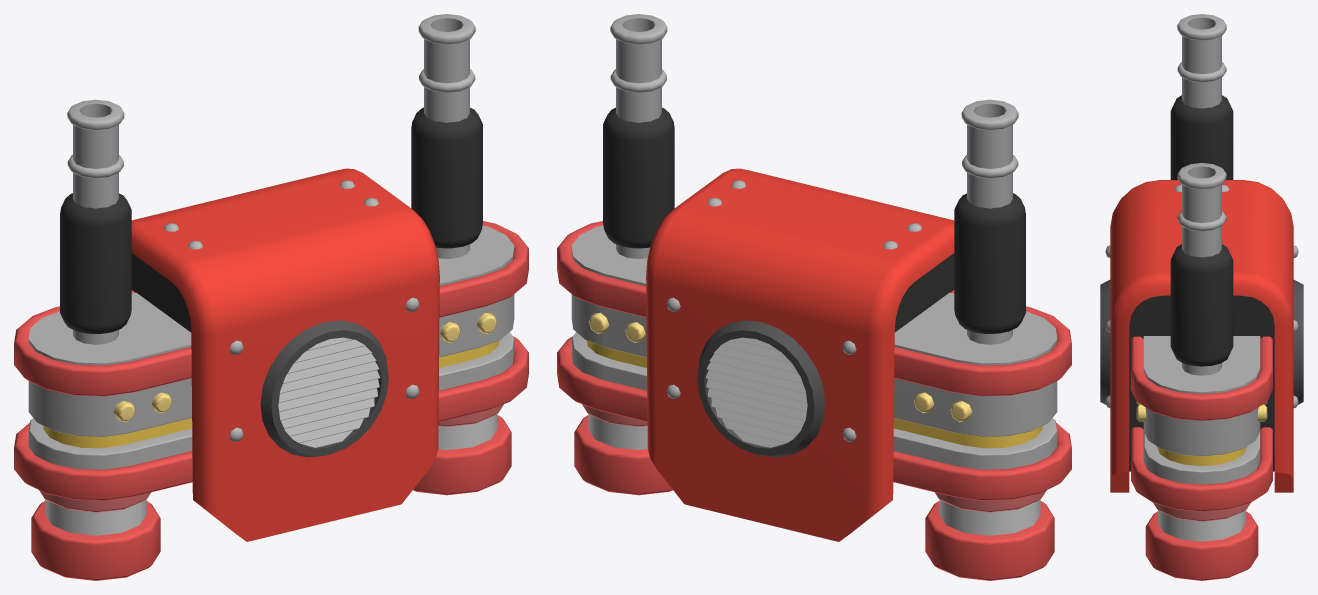
Rendered from obstacle_5_001.fbx.
The picture shows the model from 3 angles, left to right: view 1: azimuth 30°, elevation 25°; view 2: azimuth 150°, elevation 25°; view 3: azimuth 270°, elevation 25°; orthographic projection. The views are drawn at different scales.
Visible parts, largest first — view 1: obstacle_5_001; view 2: obstacle_5_001; view 3: obstacle_5_001.
Part boxes in pixels (<box>): obstacle_5_001: <box>14,14,528,580</box>; obstacle_5_001: <box>557,14,1071,580</box>; obstacle_5_001: <box>1100,14,1303,580</box>.
Bounding box in the file's own units: 1714 × 703 × 1473.
